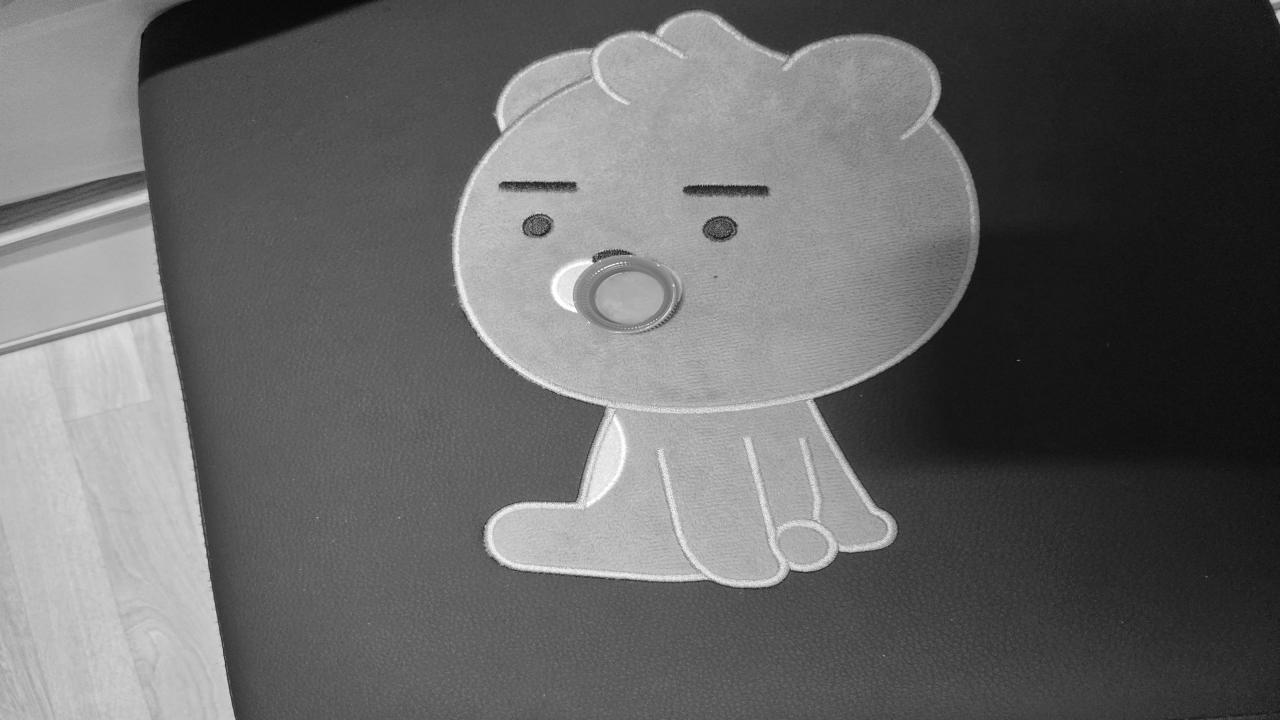bottle_cap: (562, 254, 684, 338)
